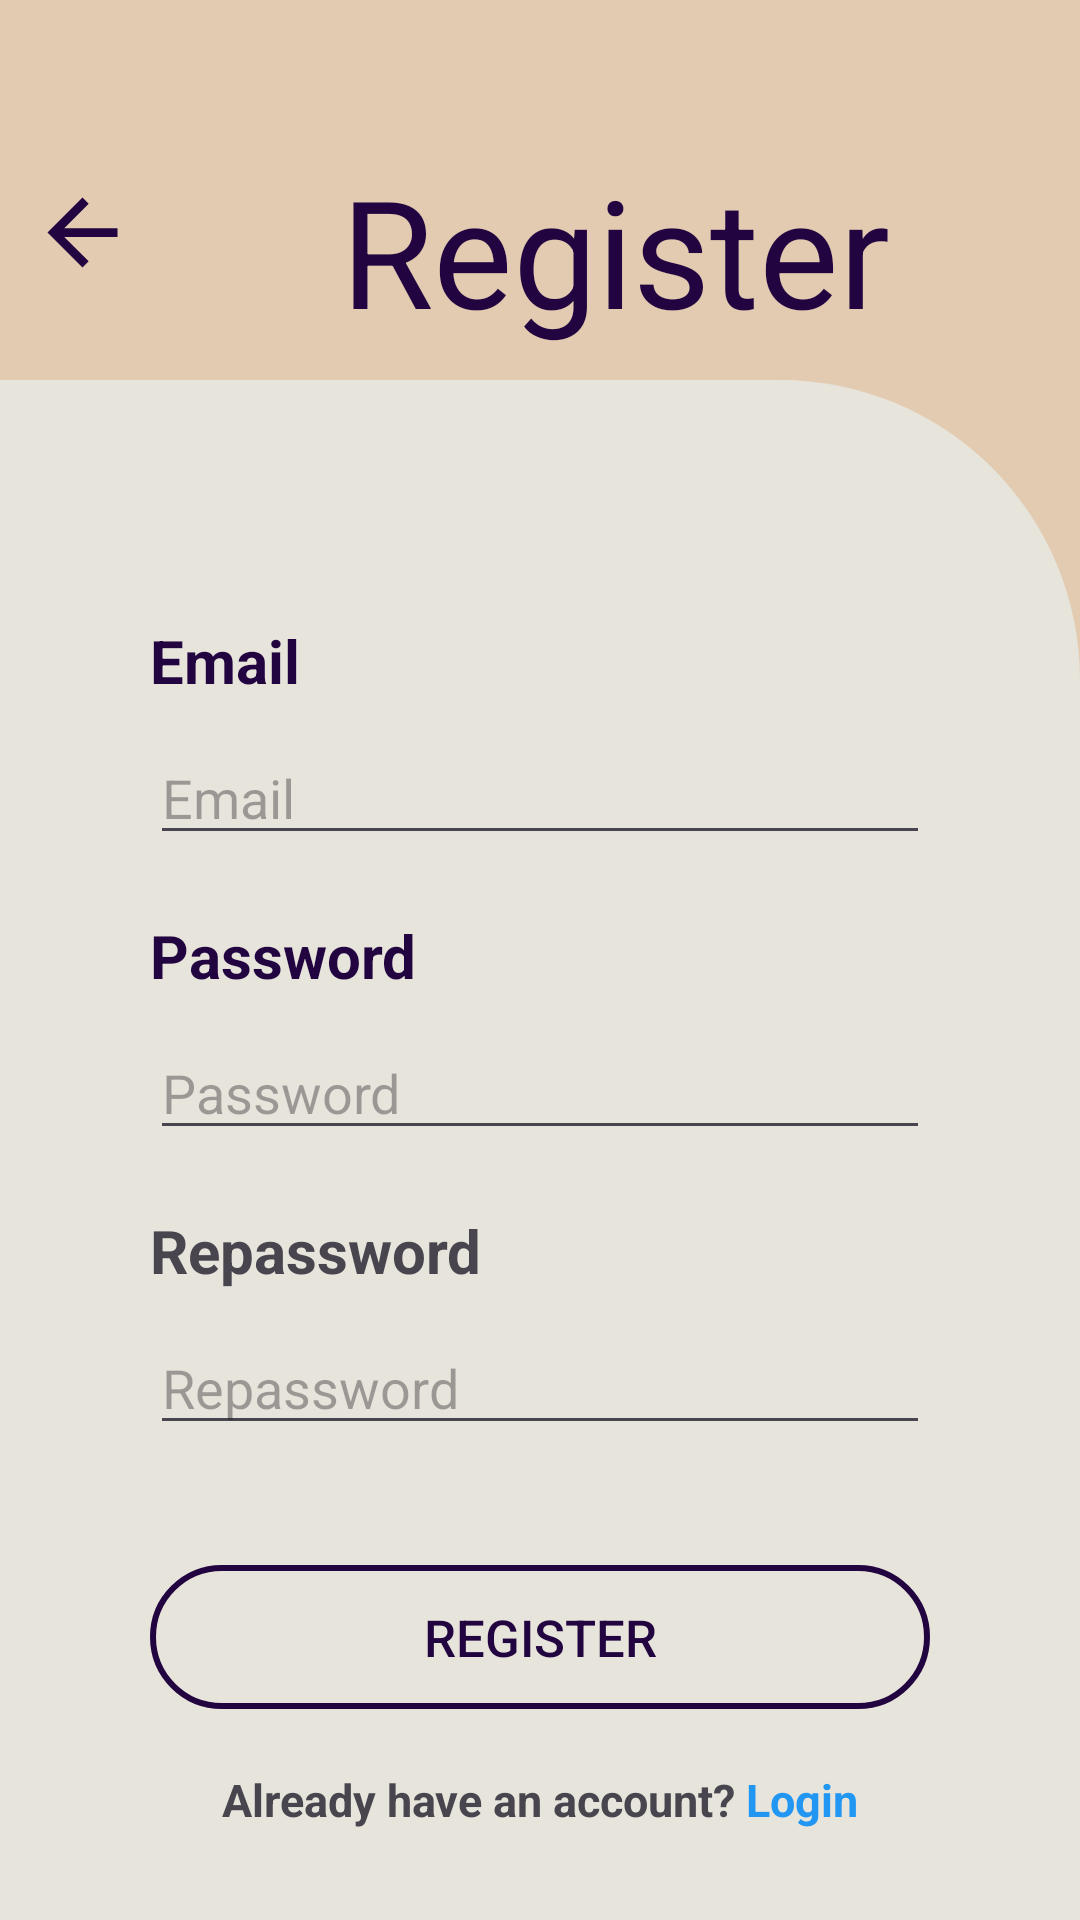

Screen size 1080×1920. Icon name, then its box in pixels as bbox=(x1, y1, x2, y2):
arrow back: bbox=(47, 197, 118, 268)
